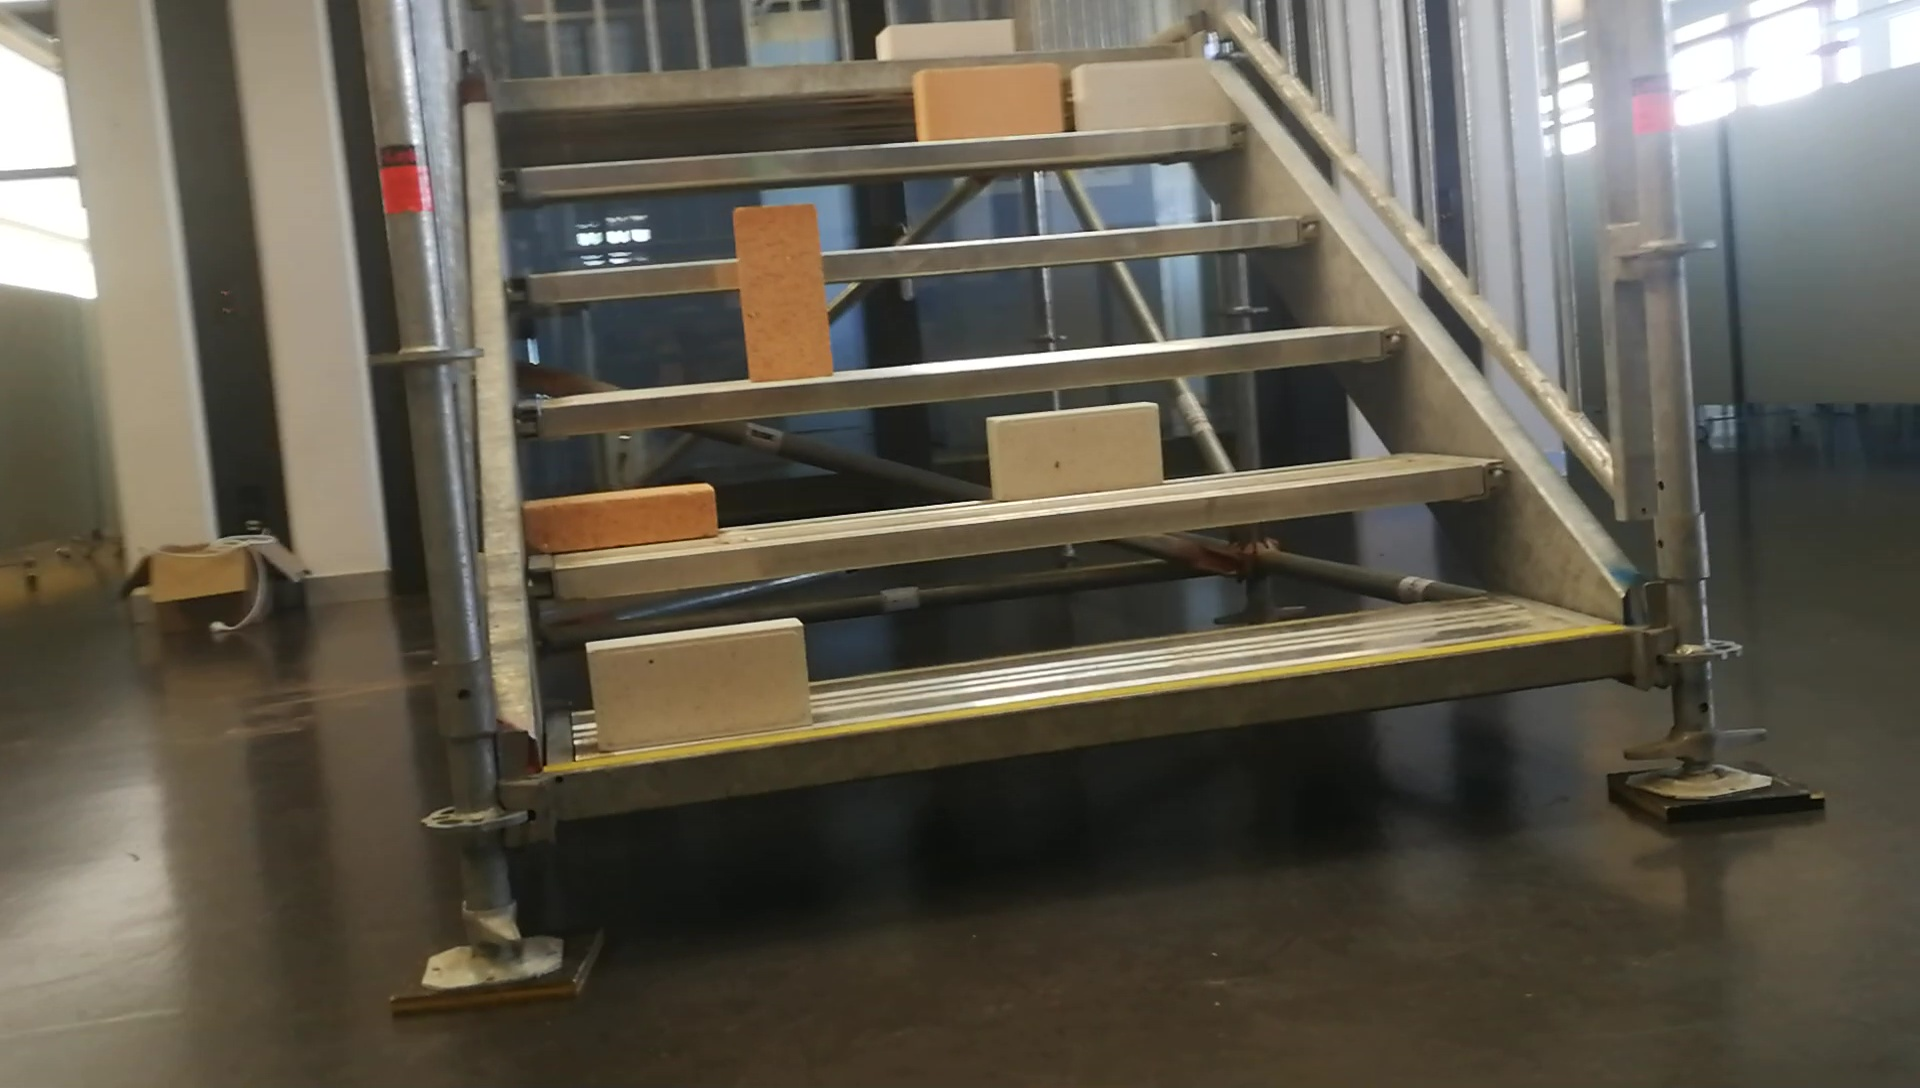brick: (585, 616, 807, 746), (732, 204, 829, 382), (990, 401, 1159, 500), (521, 481, 717, 550), (913, 66, 1060, 137), (1072, 65, 1211, 128), (876, 17, 1011, 58)
edge: (547, 628, 1633, 815), (527, 460, 1505, 593), (516, 326, 1404, 433), (505, 215, 1317, 298), (502, 123, 1251, 193), (496, 53, 1195, 100)
stairs: (390, 7, 1822, 1019)
steps: (487, 9, 1647, 837)
